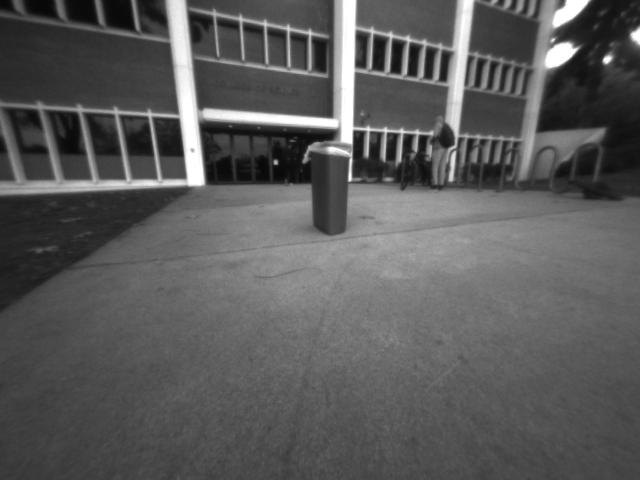trashcan_open: (301, 135, 360, 245)
